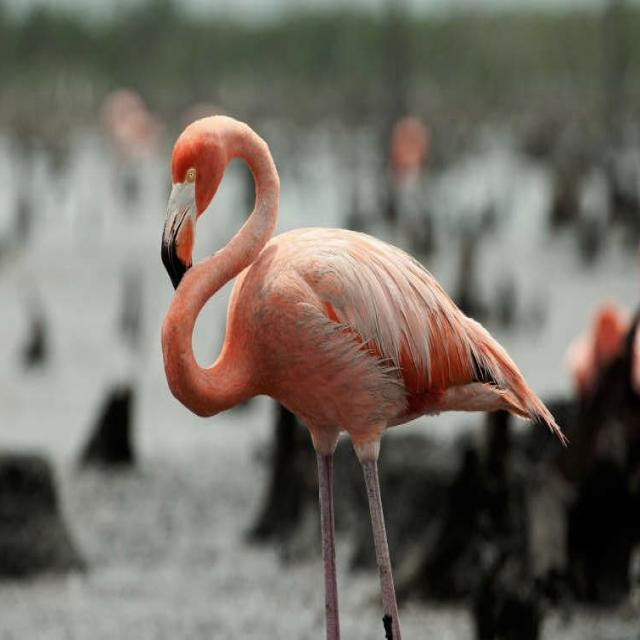flamingo: (162, 116, 569, 639)
